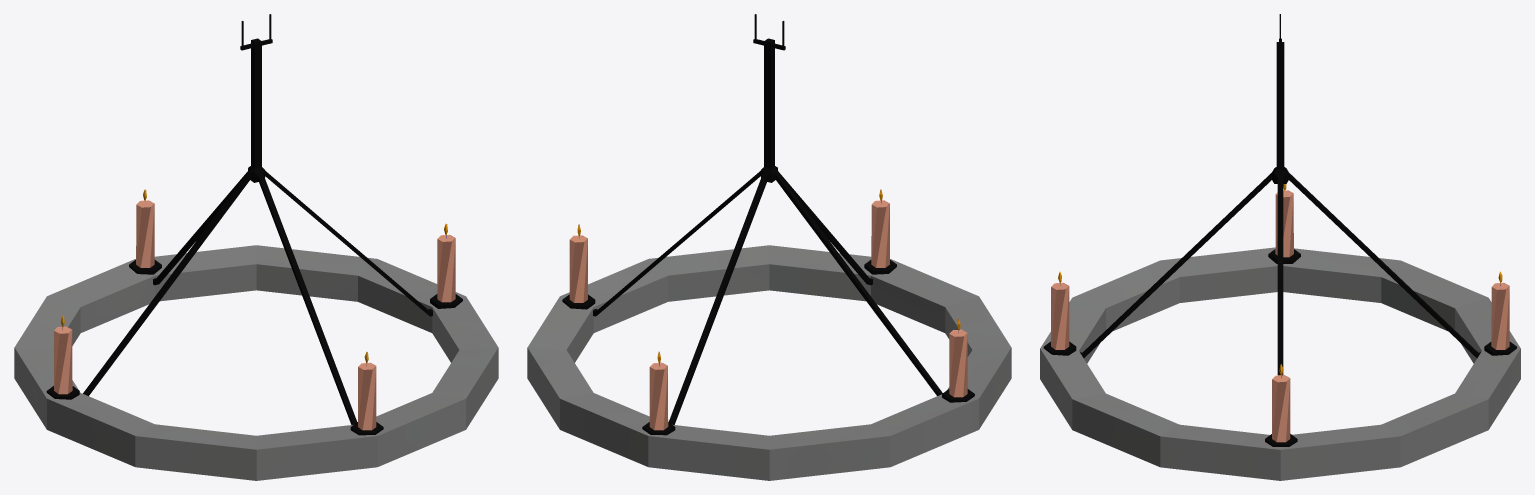
The model's file is Chandelier.fbx.
3 views of the same model, side by side, from view 1: azimuth 30°, elevation 25°; view 2: azimuth 150°, elevation 25°; view 3: azimuth 270°, elevation 25° (orthographic).
Visible parts, largest first — view 1: Chandelier; view 2: Chandelier; view 3: Chandelier.
Part boxes in pixels (x1,y1,x2,y2): Chandelier: (14,14,498,480); Chandelier: (527,14,1011,480); Chandelier: (1040,14,1520,480).
Bounding box in the file's own units: 156 × 129 × 156.
